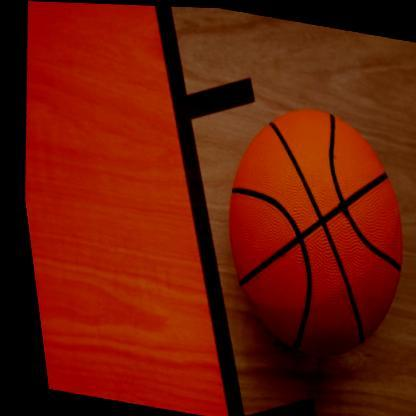basketball: (194, 91, 416, 368)
